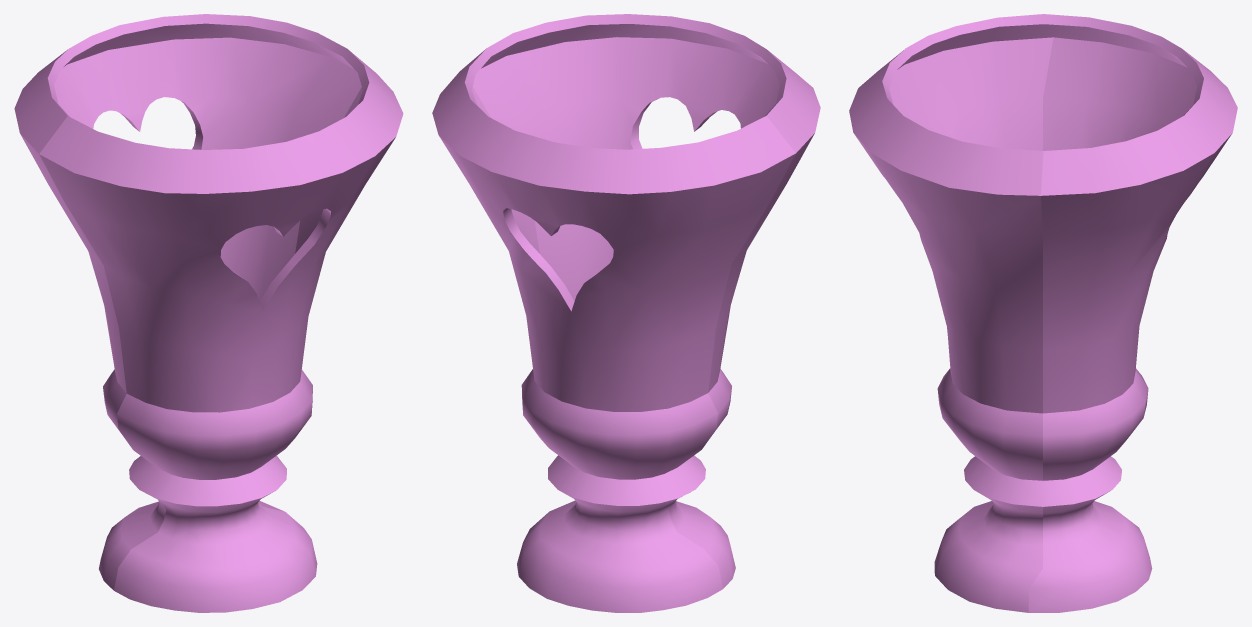
File: SM_Quatrefoil_Urn.fbx
The picture shows the model from 3 angles, left to right: view 1: azimuth 30°, elevation 25°; view 2: azimuth 150°, elevation 25°; view 3: azimuth 270°, elevation 25°; orthographic projection.
Visible parts, largest first — view 1: SM_Quatrefoil_Urn; view 2: SM_Quatrefoil_Urn; view 3: SM_Quatrefoil_Urn.
Part boxes in pixels (x1,y1,x2,y2): SM_Quatrefoil_Urn: (14,14,403,612); SM_Quatrefoil_Urn: (432,14,820,612); SM_Quatrefoil_Urn: (849,14,1237,612).
Bounding box in the file's own units: 0.8834 × 1.22 × 0.883.
